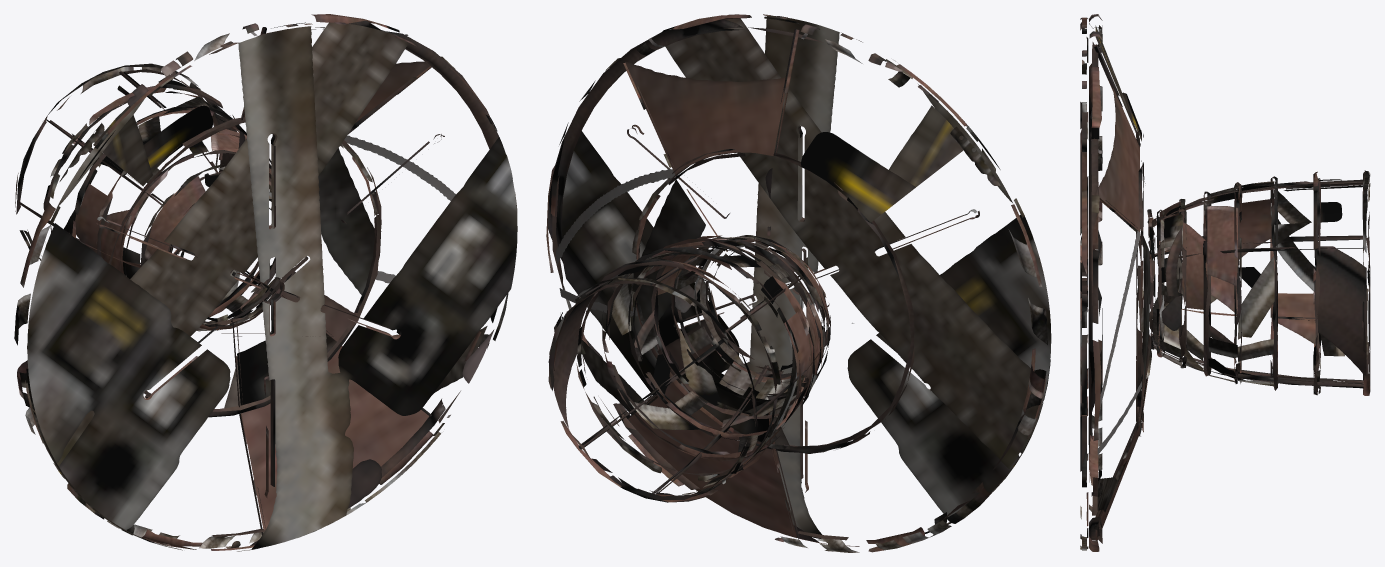
The picture shows the model from 3 angles, left to right: view 1: azimuth 30°, elevation 25°; view 2: azimuth 150°, elevation 25°; view 3: azimuth 270°, elevation 25°; orthographic projection. The views are drawn at different scales.
Size of the model in its own units: 0.6823 by 0.6819 by 0.3672.
